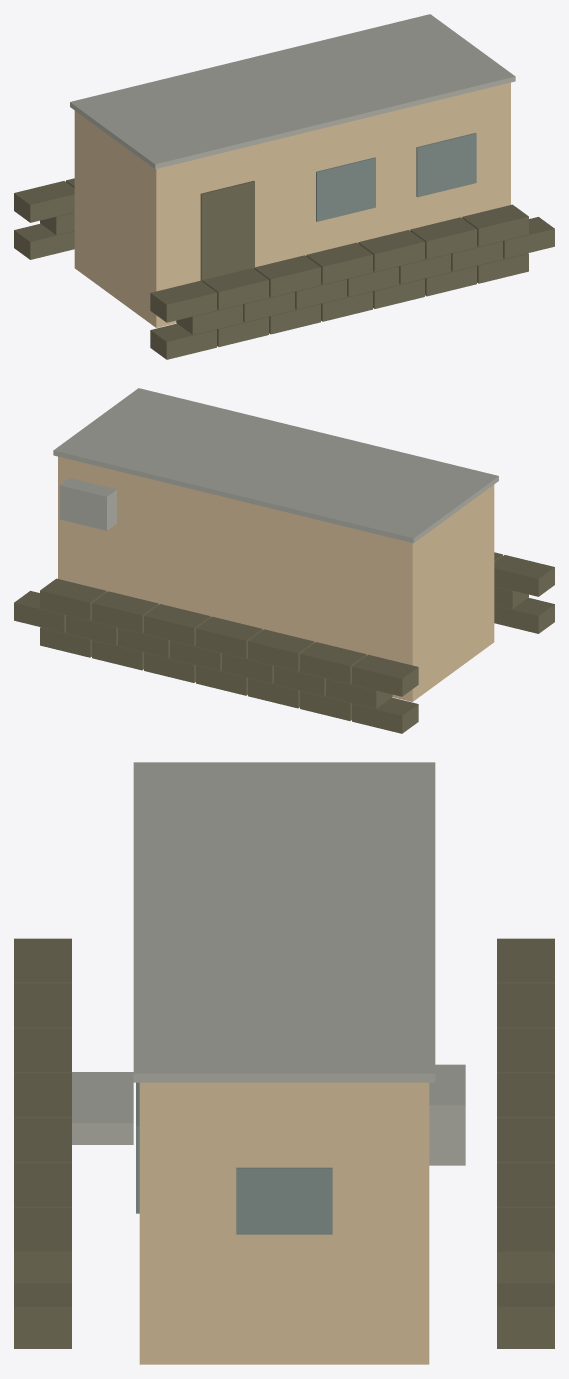
File: SM_Caseta_v3_Sacos_LOD0.fbx
The picture shows the model from 3 angles, top to bottom: view 1: azimuth 30°, elevation 25°; view 2: azimuth 150°, elevation 25°; view 3: azimuth 270°, elevation 25°; orthographic projection. The views are drawn at different scales.
Visible parts, largest first — view 1: SM_ambiente_aerodromo_v13_LOD0; view 2: SM_ambiente_aerodromo_v13_LOD0; view 3: SM_ambiente_aerodromo_v13_LOD0.
Part boxes in pixels (x1,y1,x2,y2): SM_ambiente_aerodromo_v13_LOD0: [14, 14, 554, 359]; SM_ambiente_aerodromo_v13_LOD0: [14, 388, 554, 733]; SM_ambiente_aerodromo_v13_LOD0: [14, 762, 554, 1364].
Size of the model in its own units: 6.57 by 2.68 by 4.48.
